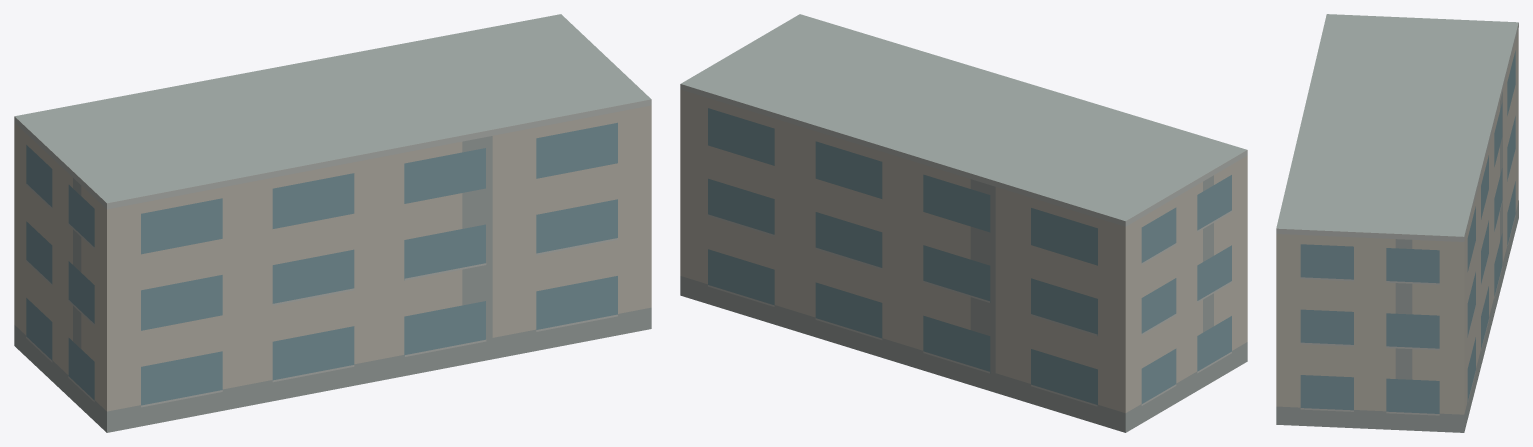
The model's file is survey-upis-32528209.glb.
The picture shows the model from 3 angles, left to right: view 1: azimuth 30°, elevation 25°; view 2: azimuth 150°, elevation 25°; view 3: azimuth 270°, elevation 25°; orthographic projection. The views are drawn at different scales.
Parts seen in each view (by area): view 1: survey-upis-32528209.tmp; view 2: survey-upis-32528209.tmp; view 3: survey-upis-32528209.tmp.
Boxes of the visible parts, x1=… form: survey-upis-32528209.tmp: x1=14, y1=14, x2=651, y2=432; survey-upis-32528209.tmp: x1=680, y1=14, x2=1247, y2=432; survey-upis-32528209.tmp: x1=1276, y1=14, x2=1518, y2=432.
Size of the model in its own units: 22.31 by 9.15 by 10.27.
